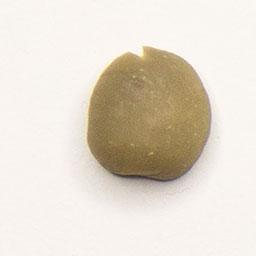premium: (83, 42, 214, 186)
